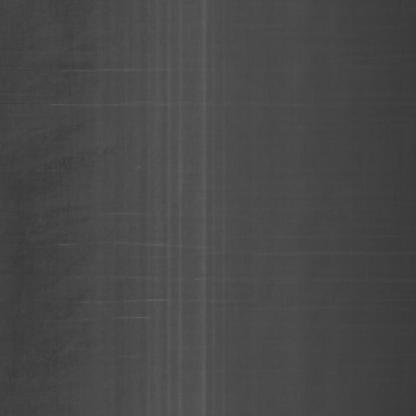waist_folding: (101, 15, 229, 398)
